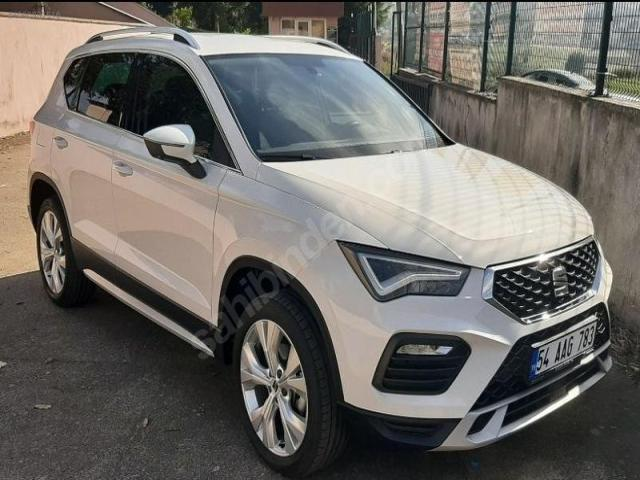plaka: (530, 321, 597, 378)
